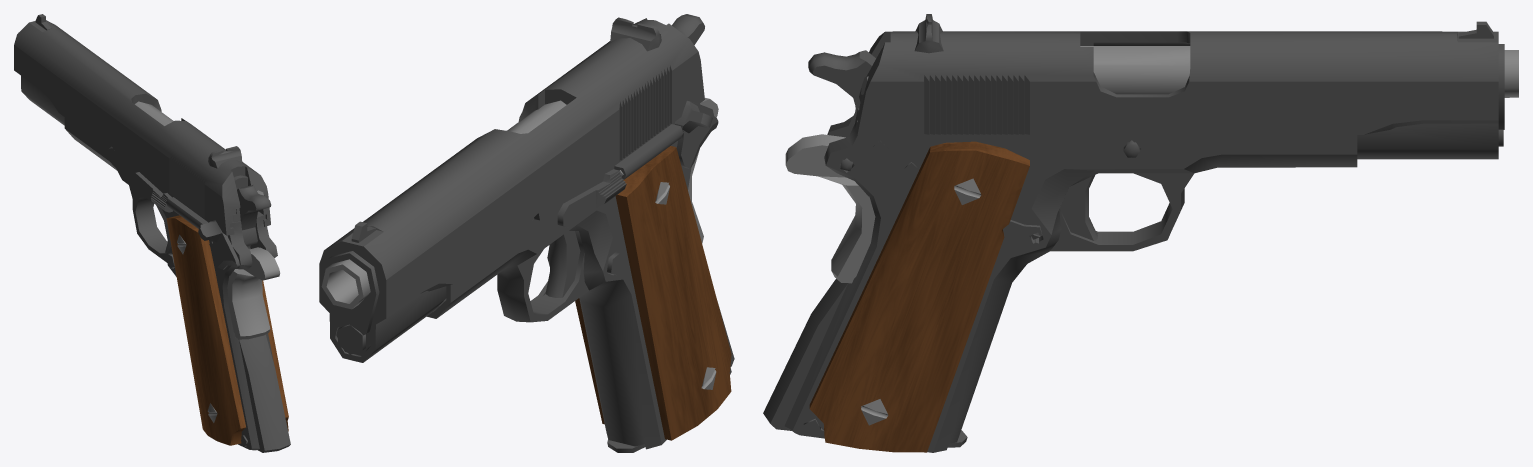
File: Low-Poly_M1911A1_remade.glb
3 views of the same model, side by side, from view 1: azimuth 30°, elevation 25°; view 2: azimuth 150°, elevation 25°; view 3: azimuth 270°, elevation 25° (orthographic). The views are drawn at different scales.
Parts seen in each view (by area): view 1: unnamed (×12); view 2: unnamed (×15); view 3: unnamed (×10).
Boxes of the visible parts, x1=… form: unnamed (×12): x1=14, y1=20, x2=290, y2=452; unnamed (×15): x1=319, y1=14, x2=731, y2=449; unnamed (×10): x1=763, y1=14, x2=1518, y2=452.
Bounding box in the file's own units: 0.0361 × 0.1385 × 0.2266.
3 materials, 1 textured.
